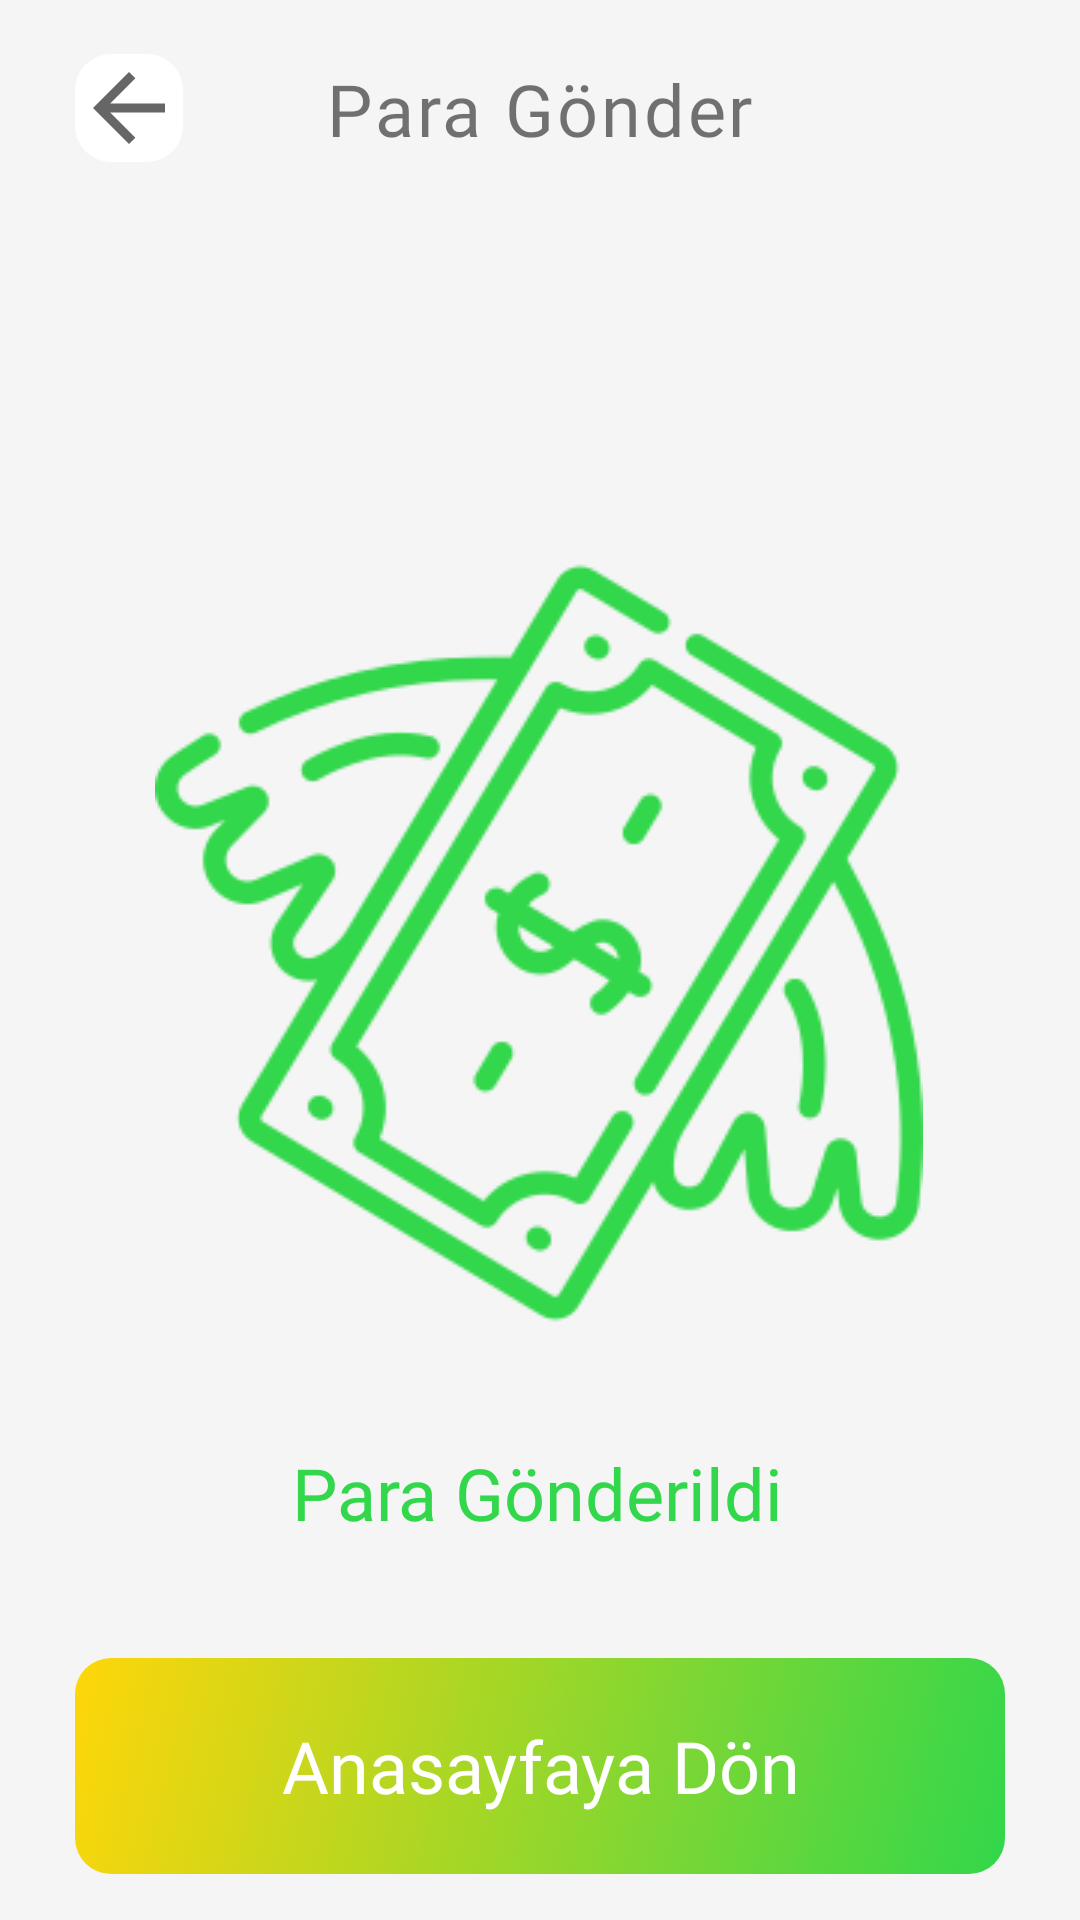

Where to tap for icons on this 1080x1920 app screen, as (x=x, y=y):
back: (x=129, y=108)
